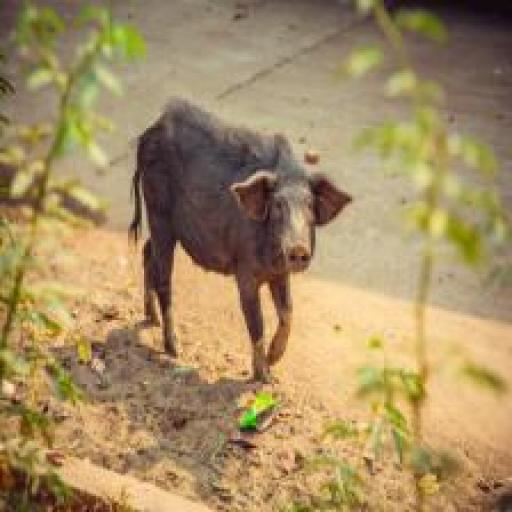Pig: (105, 101, 358, 386)
